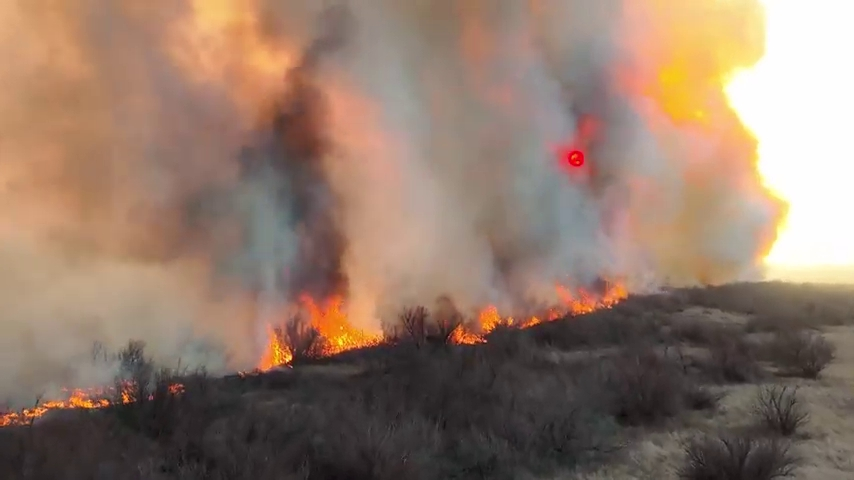forest_fire: (298, 295, 383, 356), (0, 387, 129, 426), (521, 284, 626, 326), (256, 325, 298, 370), (475, 305, 497, 330), (452, 327, 482, 343)
